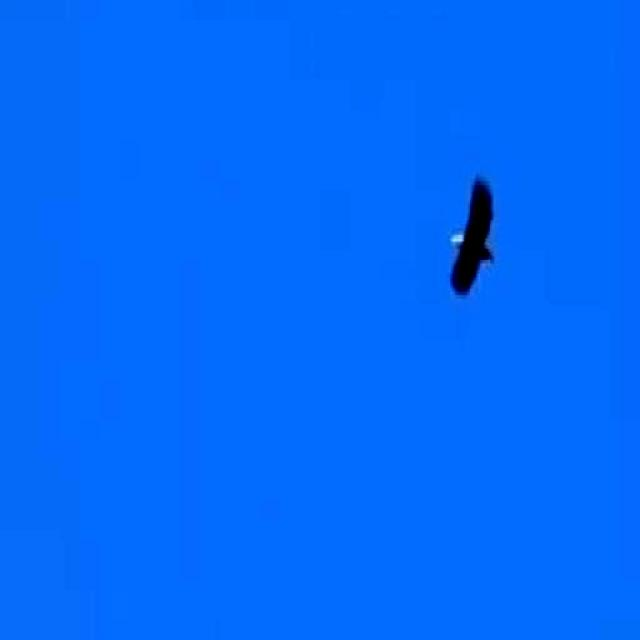airplane: (438, 140, 510, 312)
